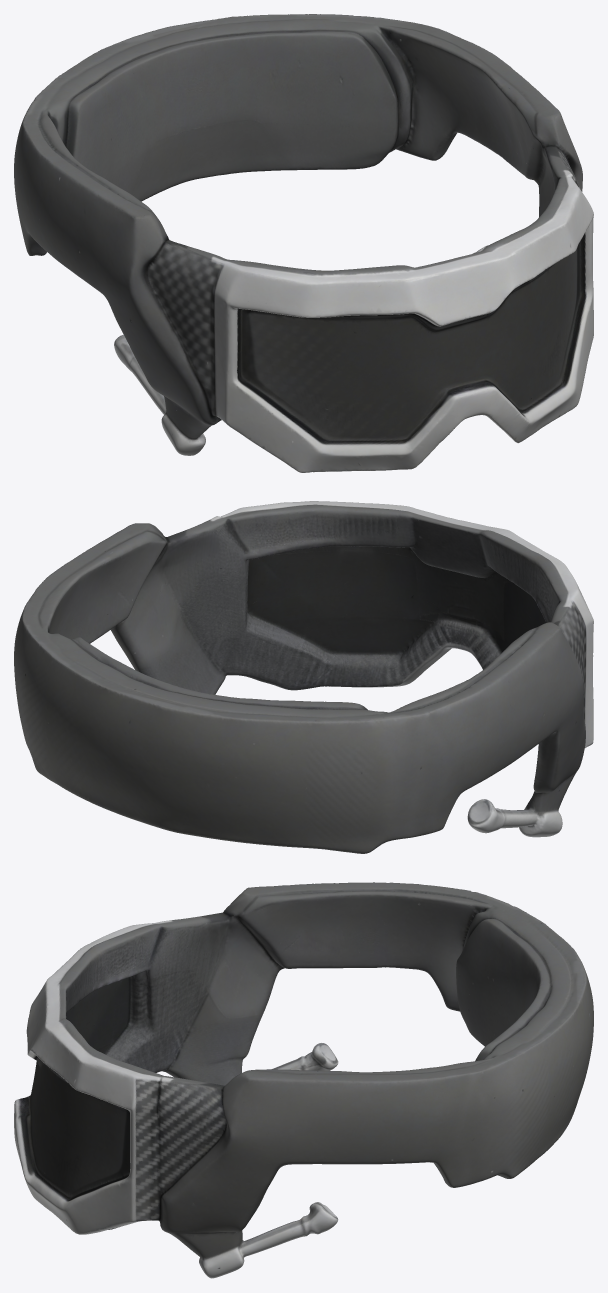
Rendered from modello_textured.glb.
3 renders of one model, top to bottom at view 1: azimuth 30°, elevation 25°; view 2: azimuth 150°, elevation 25°; view 3: azimuth 270°, elevation 25°, orthographic. The views are drawn at different scales.
Bounding box in the file's own units: 1.71 × 0.8285 × 2.
Materials: 1 (1 with a texture image).
